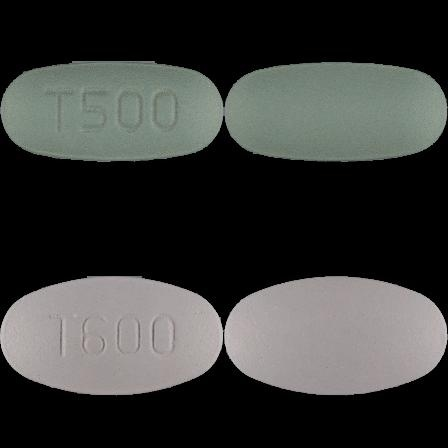51672-4052: (0, 0, 224, 224)
